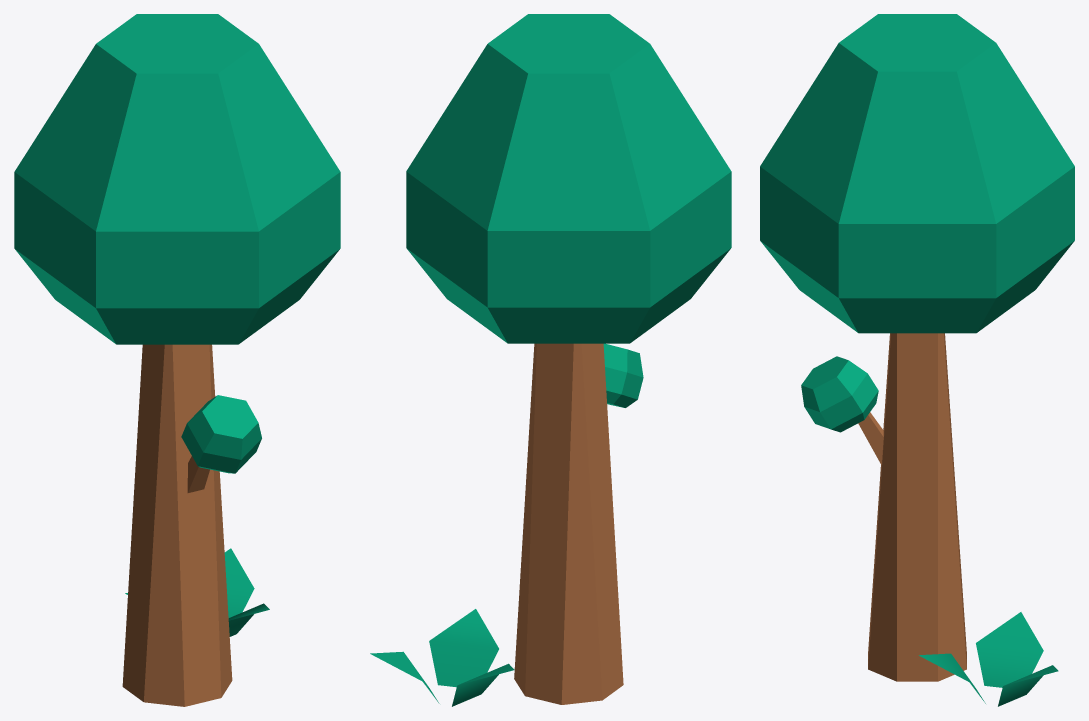
The model's file is tree2.glb.
3 views of the same model, side by side, from view 1: azimuth 30°, elevation 25°; view 2: azimuth 150°, elevation 25°; view 3: azimuth 270°, elevation 25° (orthographic). The views are drawn at different scales.
Parts seen in each view (by area): view 1: mergedBlocks(Clone); view 2: mergedBlocks(Clone); view 3: mergedBlocks(Clone).
Part boxes in pixels (left/top/right/bottom): mergedBlocks(Clone): left=14, top=14, right=340, bottom=706; mergedBlocks(Clone): left=370, top=14, right=731, bottom=706; mergedBlocks(Clone): left=760, top=14, right=1074, bottom=706.
Bounding box in the file's own units: 0.5022 × 1.23 × 0.5695.
